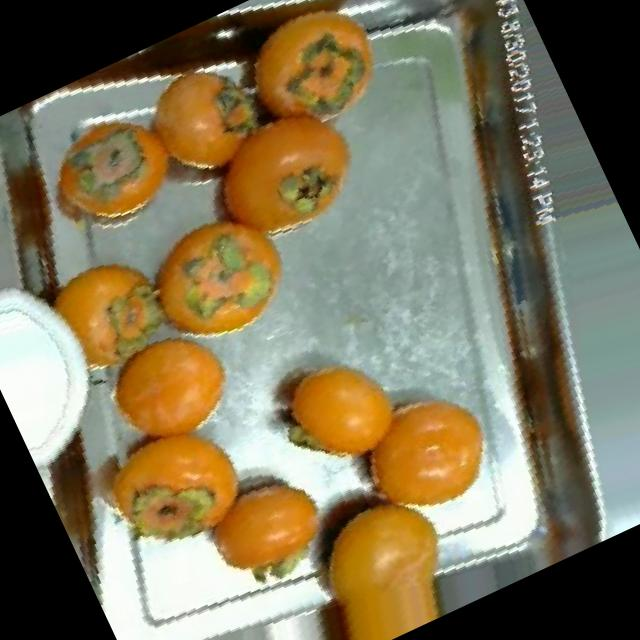Fruit: (60, 383, 279, 587), (110, 176, 322, 377), (321, 358, 524, 549), (204, 0, 418, 165), (280, 467, 484, 640), (242, 321, 426, 502), (10, 85, 196, 263), (76, 302, 261, 472), (176, 449, 352, 608)
